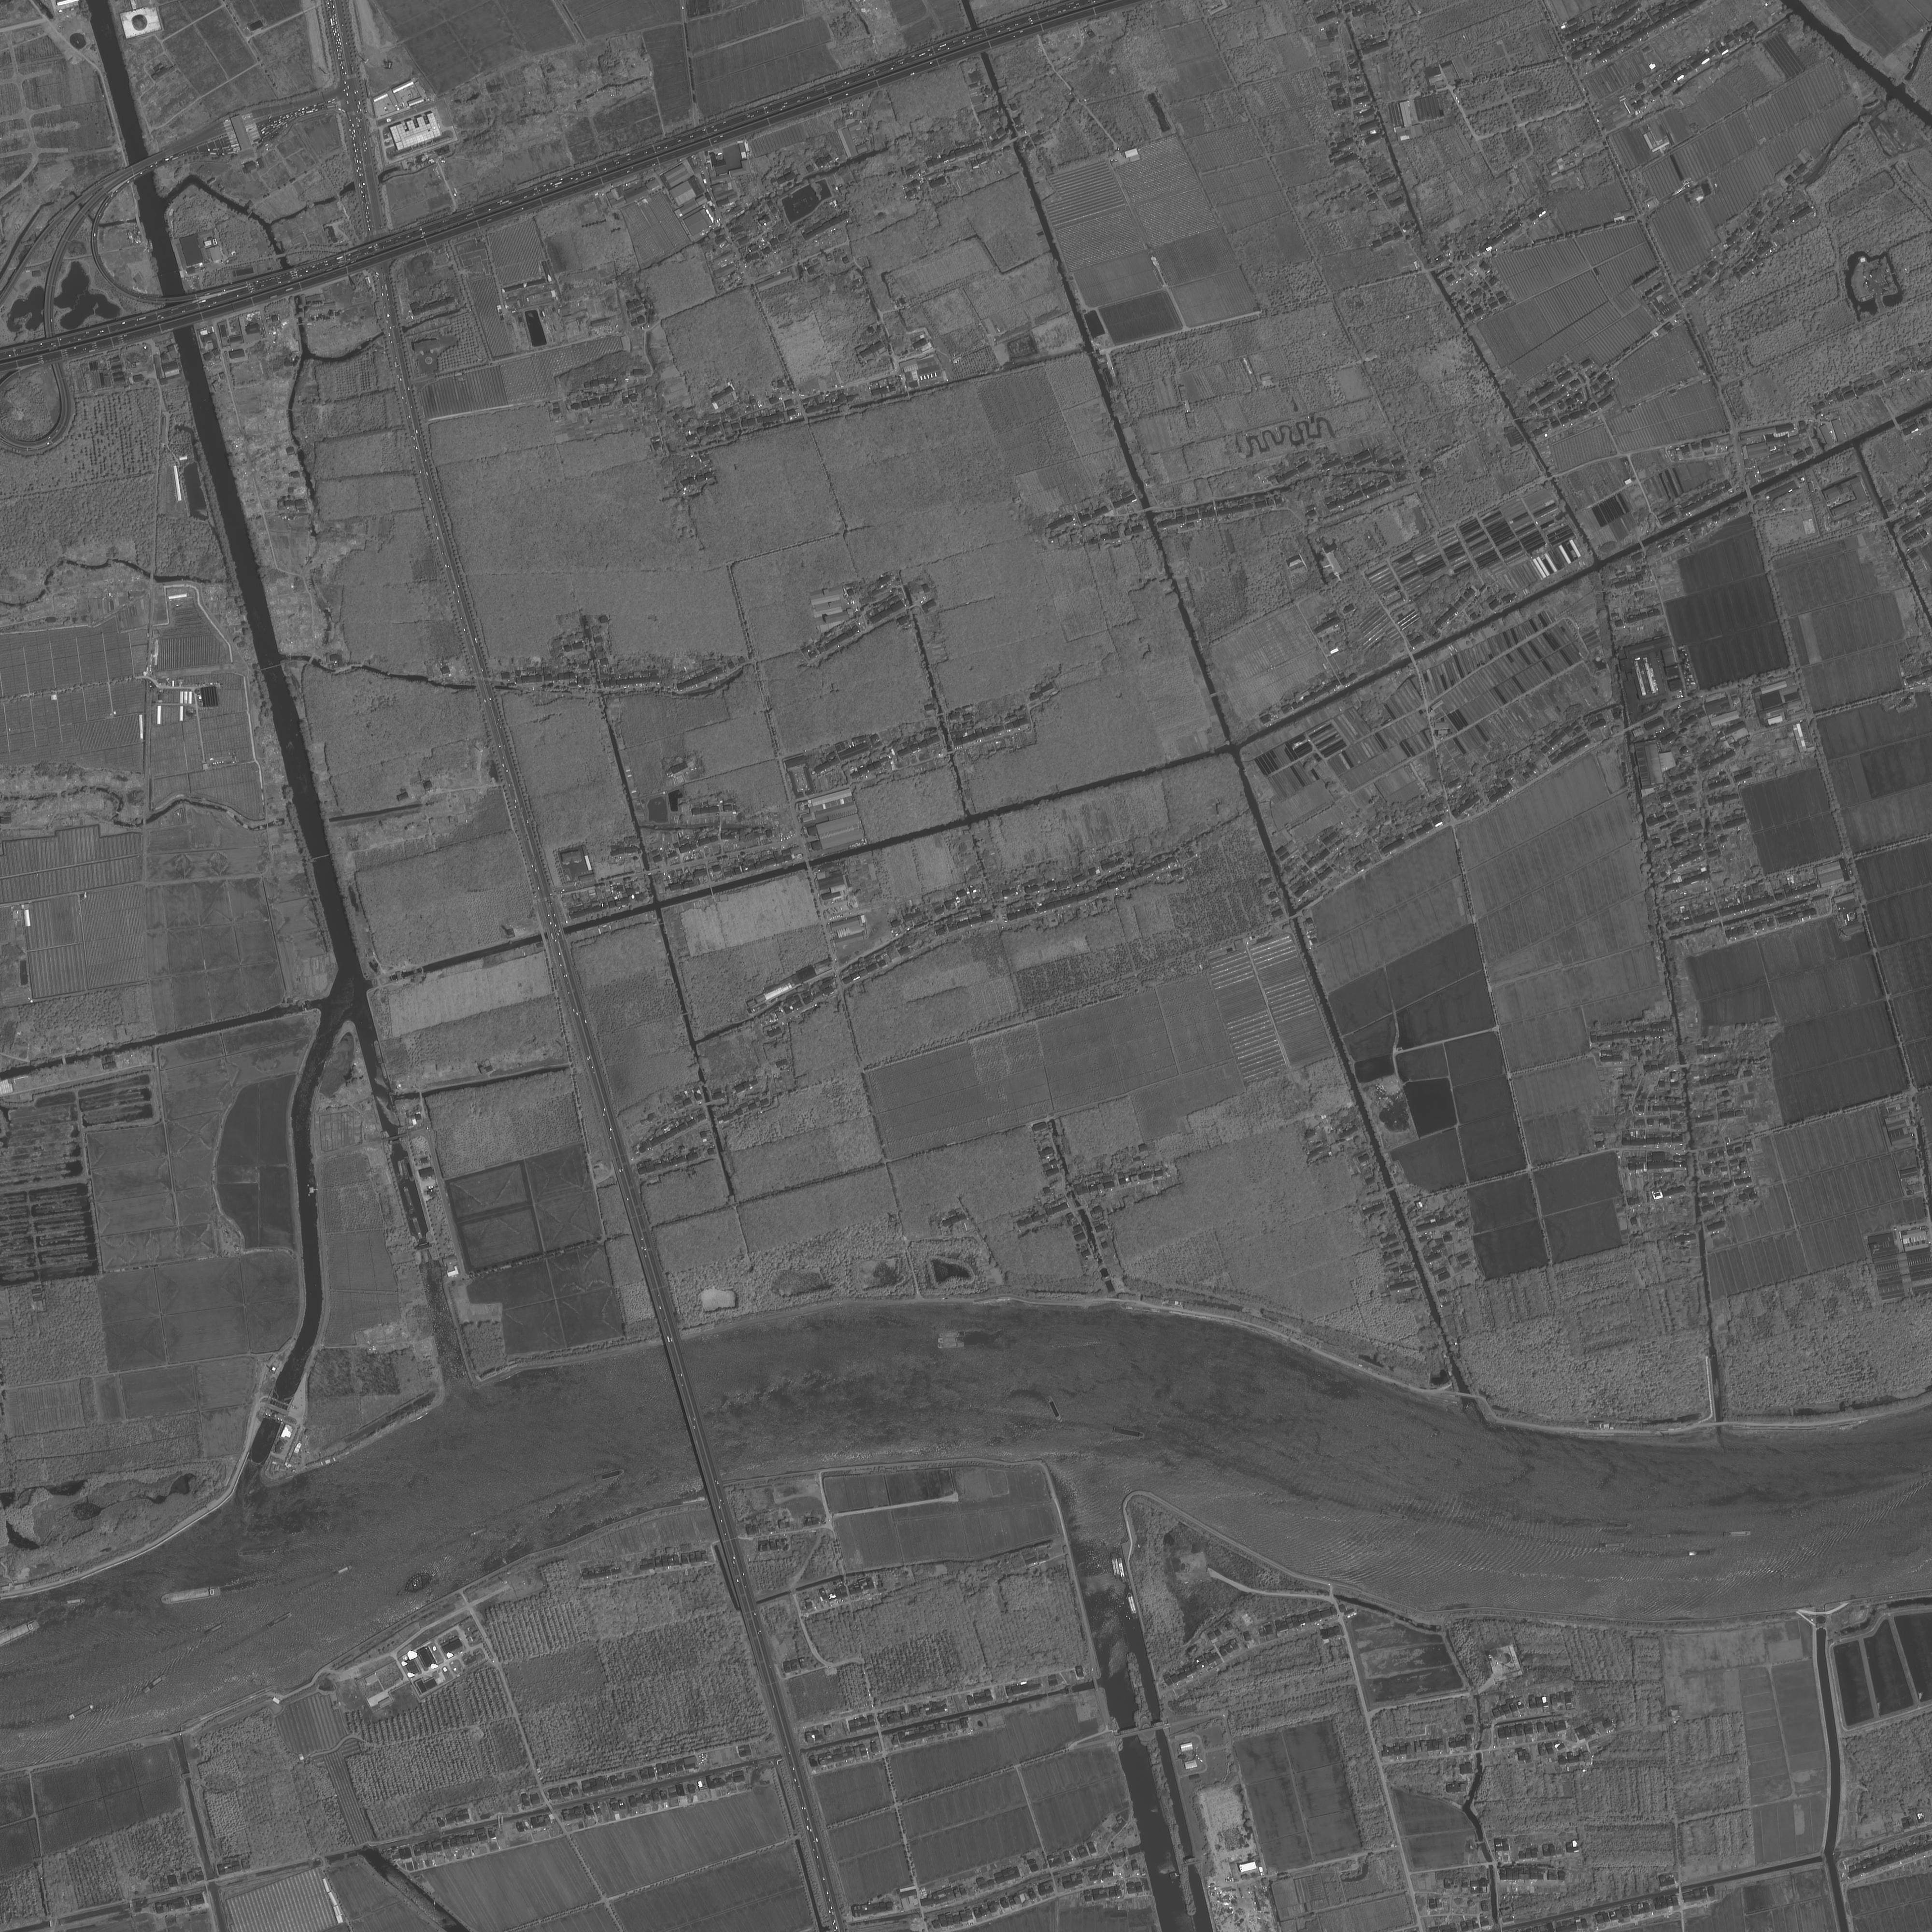ship: (161, 1585, 221, 1606), (2, 1617, 41, 1647), (65, 1702, 97, 1723), (265, 1610, 295, 1631), (593, 1467, 626, 1484), (142, 1674, 168, 1695), (1046, 1394, 1065, 1422), (1111, 1426, 1146, 1440), (203, 1621, 230, 1637), (331, 1562, 356, 1578), (1125, 1592, 1139, 1619), (1380, 1509, 1410, 1522), (403, 1155, 416, 1184), (1109, 1552, 1122, 1580), (372, 1039, 384, 1065), (412, 1215, 425, 1240), (403, 1185, 416, 1210), (1116, 1557, 1127, 1585), (1686, 1548, 1718, 1557), (938, 1329, 970, 1338), (469, 1525, 490, 1537), (58, 1598, 87, 1606), (938, 1341, 966, 1350), (379, 1062, 389, 1085), (387, 1092, 398, 1113), (400, 1159, 410, 1180), (1723, 1530, 1752, 1537), (1599, 1543, 1626, 1550), (1605, 1522, 1631, 1529), (1651, 1532, 1674, 1539), (396, 1159, 405, 1177), (938, 1338, 959, 1343)
